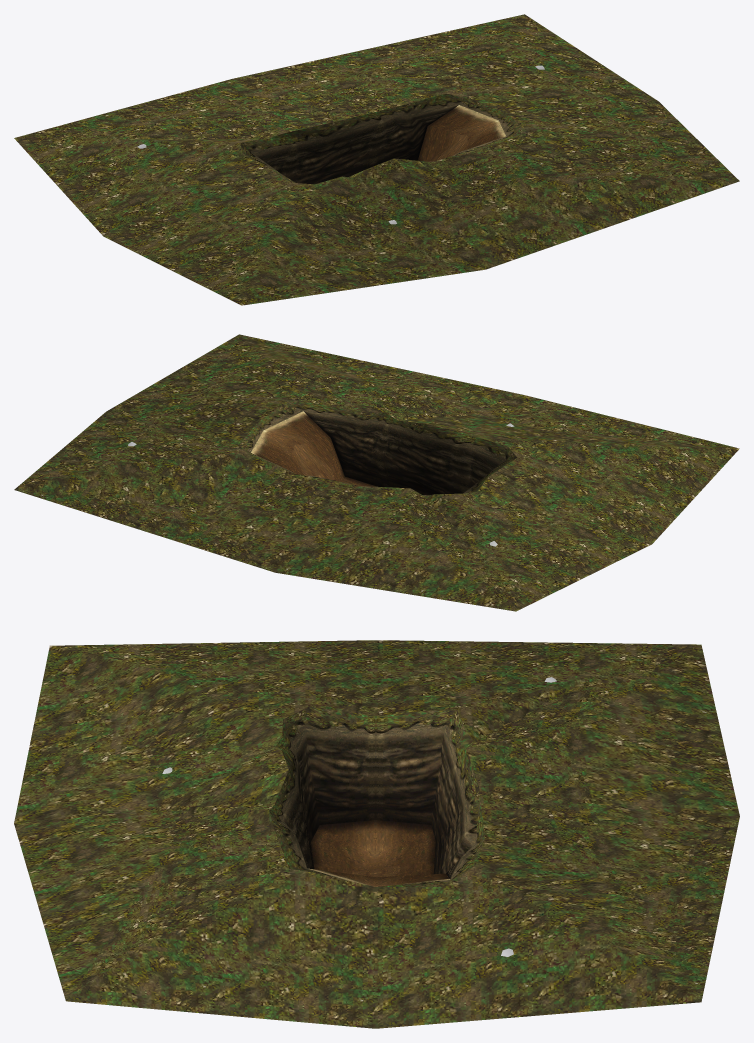
Rendered from tirisfallopengrave01.obj.
The picture shows the model from 3 angles, top to bottom: view 1: azimuth 30°, elevation 25°; view 2: azimuth 150°, elevation 25°; view 3: azimuth 270°, elevation 25°; orthographic projection. The views are drawn at different scales.
Parts seen in each view (by area): view 1: TIRISFALLOPENGRAVE010, TIRISFALLOPENGRAVE011, TIRISFALLOPENGRAVE012; view 2: TIRISFALLOPENGRAVE010, TIRISFALLOPENGRAVE011, TIRISFALLOPENGRAVE012; view 3: TIRISFALLOPENGRAVE010, TIRISFALLOPENGRAVE011, TIRISFALLOPENGRAVE012.
Part boxes in pixels (<box>): TIRISFALLOPENGRAVE010: <box>14,14,739,305</box>; TIRISFALLOPENGRAVE011: <box>240,93,521,184</box>; TIRISFALLOPENGRAVE012: <box>418,105,505,161</box>; TIRISFALLOPENGRAVE010: <box>14,334,739,611</box>; TIRISFALLOPENGRAVE011: <box>239,401,517,498</box>; TIRISFALLOPENGRAVE012: <box>251,411,376,486</box>; TIRISFALLOPENGRAVE010: <box>14,640,739,1028</box>; TIRISFALLOPENGRAVE011: <box>269,706,484,886</box>; TIRISFALLOPENGRAVE012: <box>308,820,449,886</box>.
Bounding box in the file's own units: 13.04 × 1.85 × 10.31.
